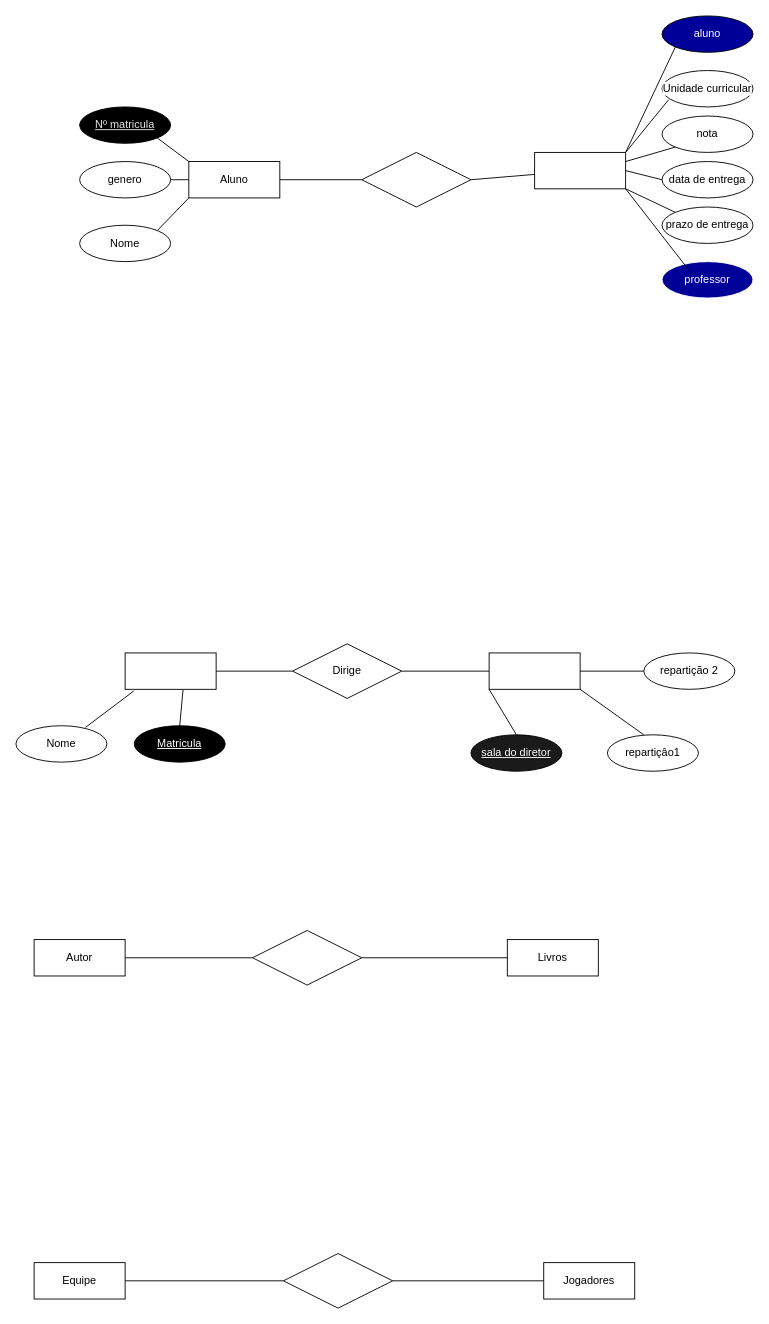
The diagram is 769 pixels wide and 1324 high, and some of its shapes have lost their labels. Each missing label, with the centre of its shape:
"Composta" belongs at (x=338, y=1280).
"Departamento" belongs at (x=534, y=670).
"Diretor" belongs at (x=170, y=670).
"Escreve" belongs at (x=307, y=957).
"Realizar" belongs at (x=416, y=179).
"Trabalho" belongs at (x=580, y=170).
